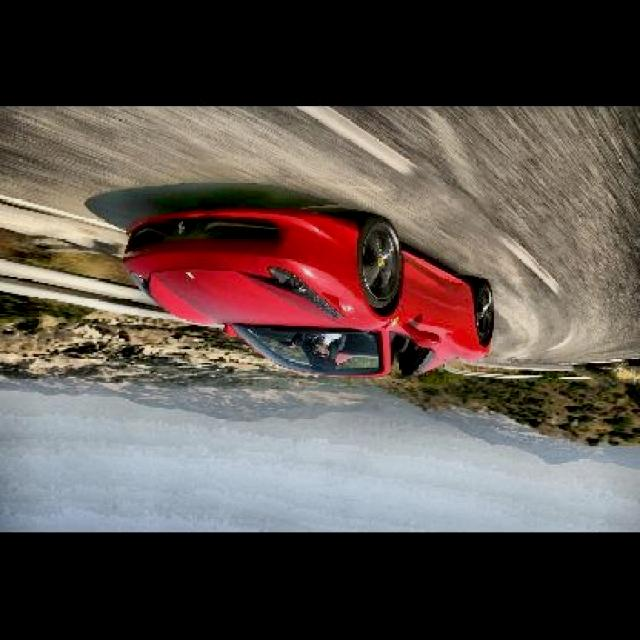red: (124, 208, 494, 378)
